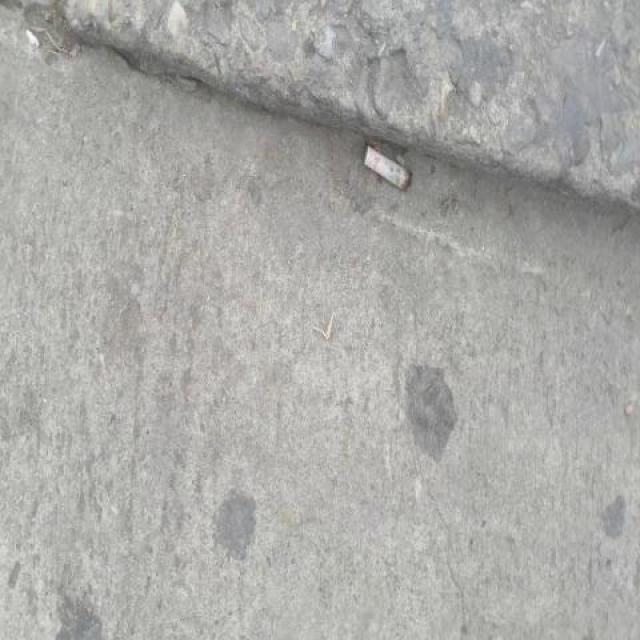non-organic waste: (356, 139, 415, 196)
